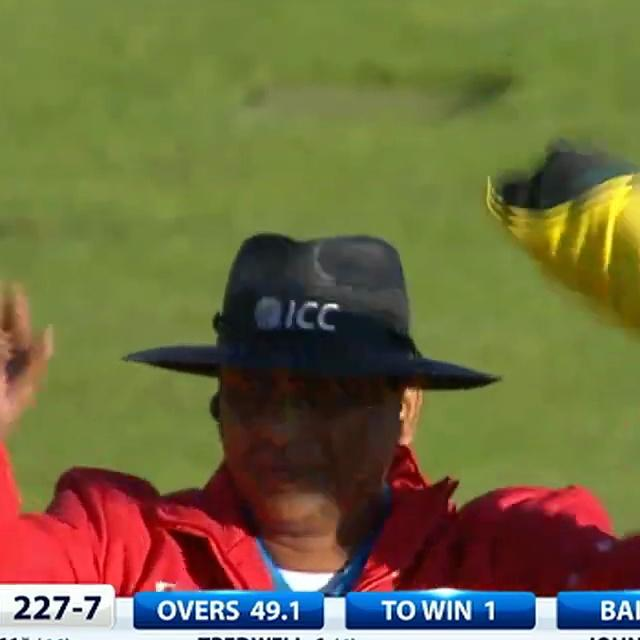umpire: (0, 91, 640, 593)
